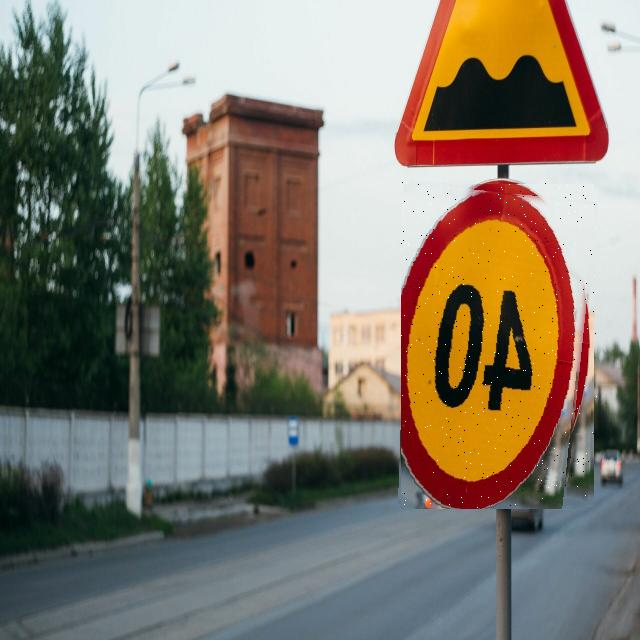speed limit 40: (401, 182, 597, 509)
